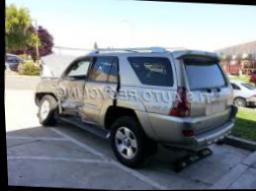Door: (56, 56, 117, 129)
Fender: (32, 79, 59, 98)
